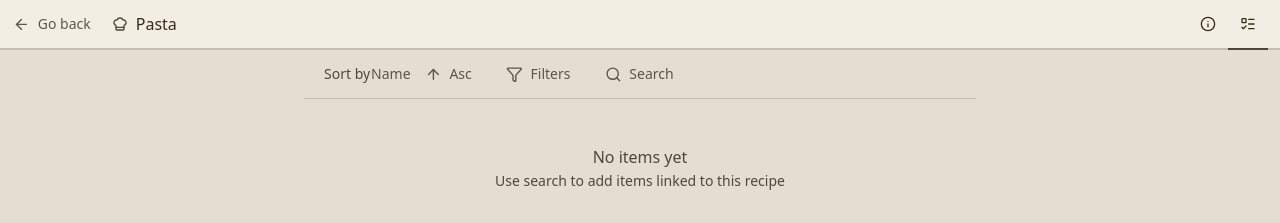
Test: Recipe Detail - Items Tab › user can filter items using the tag filter
Note: When user clicks the Filter button to show filters
Click the button with aria-label "toggle filters": {"x": 538, "y": 74} [493, 58, 584, 90]
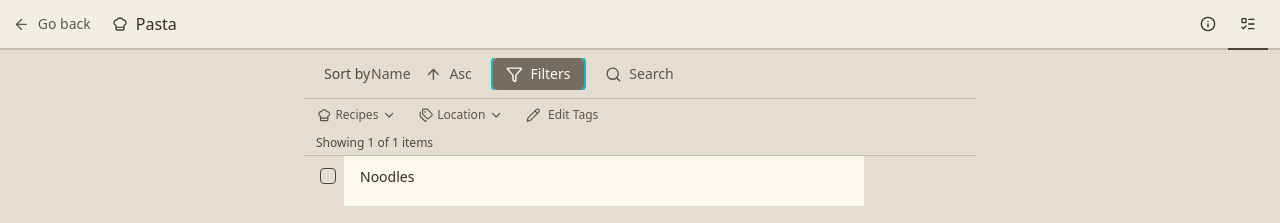
Now the button "Location" is shown, box [410, 103, 513, 127]
